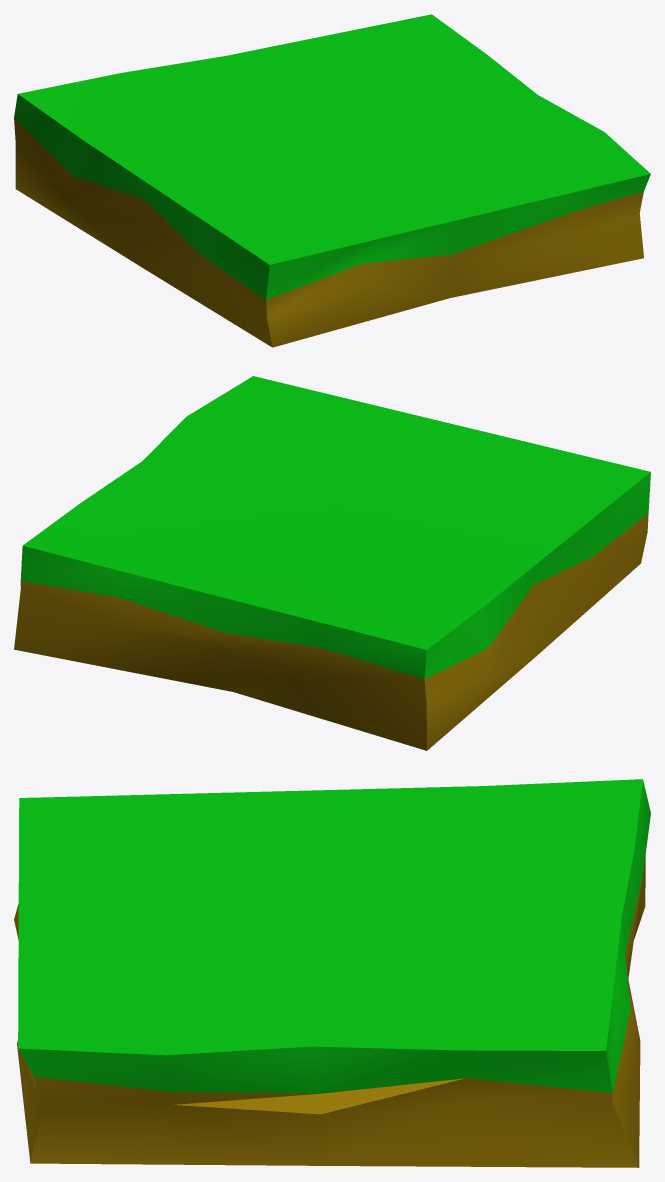
3 views of the same model, one above another, from view 1: azimuth 30°, elevation 25°; view 2: azimuth 150°, elevation 25°; view 3: azimuth 270°, elevation 25° (orthographic). The views are drawn at different scales.
Parts seen in each view (by area): view 1: 立方体; view 2: 立方体; view 3: 立方体.
Part boxes in pixels (bbox=[...]): 立方体: bbox=[14, 14, 650, 347]; 立方体: bbox=[14, 376, 650, 750]; 立方体: bbox=[14, 779, 650, 1167].
Size of the model in its own units: 424 by 98.53 by 419.
